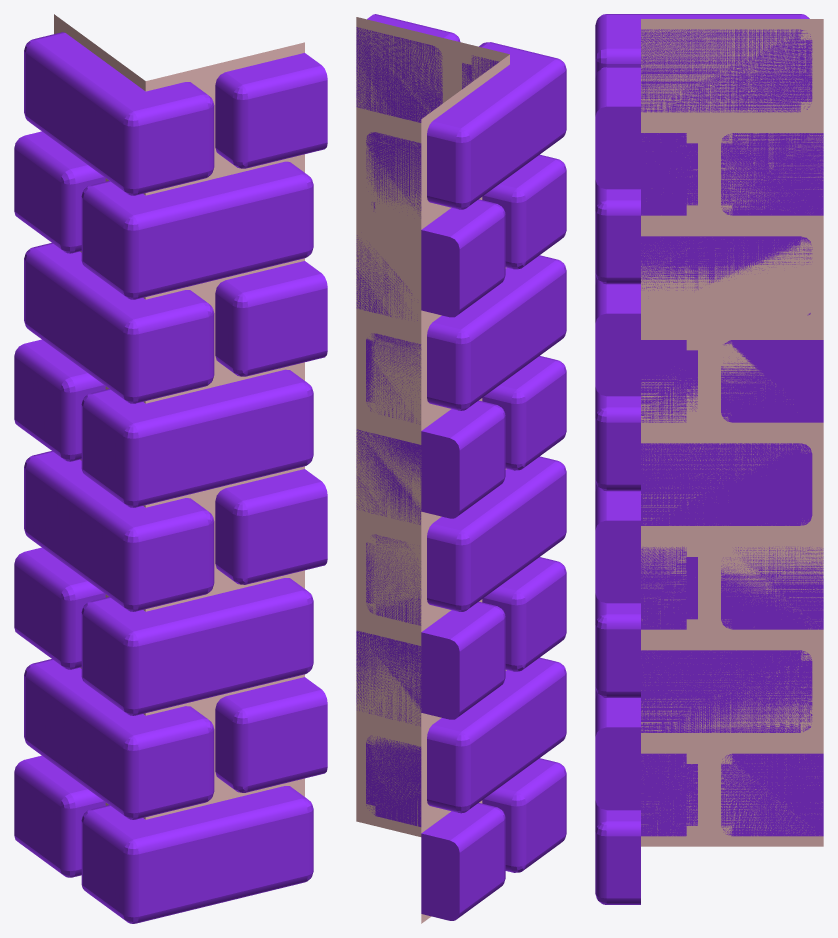
The model's file is convex_2_low.dae.
3 views of the same model, side by side, from view 1: azimuth 30°, elevation 25°; view 2: azimuth 150°, elevation 25°; view 3: azimuth 270°, elevation 25° (orthographic). The views are drawn at different scales.
Parts seen in each view (by area): view 1: corner_convex_2_1 (×8), brick_half_1 (×8), st5 (×12), st3 (×16), st4 (×8), st6 (×8), group_2 (×5), group_3 (×4), group_1; view 2: corner_convex_2_1 (×8), brick_half_1 (×8), group_2 (×8), group_3 (×4), st3 (×8), st5 (×4), st4 (×4), st6 (×4), st1 (×4), group_1; view 3: corner_convex_2_1 (×8), brick_half_1 (×8), group_2 (×4), group_3 (×4), group_1 (×4), st3 (×4), st1 (×5), st4 (×4).
Boxes of the visible parts, bbox=[...] form: corner_convex_2_1 (×8): bbox=[25, 33, 307, 916]; brick_half_1 (×8): bbox=[14, 53, 327, 870]; st5 (×12): bbox=[25, 40, 307, 923]; st3 (×16): bbox=[60, 98, 248, 917]; st4 (×8): bbox=[14, 65, 327, 805]; st6 (×8): bbox=[83, 94, 208, 852]; group_2 (×5): bbox=[54, 14, 304, 819]; group_3 (×4): bbox=[205, 42, 304, 792]; group_1: bbox=[145, 67, 205, 92]; corner_convex_2_1 (×8): bbox=[366, 43, 565, 865]; brick_half_1 (×8): bbox=[356, 14, 503, 920]; group_2 (×8): bbox=[356, 54, 509, 836]; group_3 (×4): bbox=[356, 17, 452, 736]; st3 (×8): bbox=[455, 141, 526, 866]; st5 (×4): bbox=[461, 59, 564, 743]; st4 (×4): bbox=[450, 204, 503, 852]; st6 (×4): bbox=[517, 160, 564, 803]; st1 (×4): bbox=[427, 121, 460, 745]; group_1: bbox=[452, 40, 509, 96]; corner_convex_2_1 (×8): bbox=[606, 15, 812, 898]; brick_half_1 (×8): bbox=[595, 68, 823, 836]; group_2 (×4): bbox=[641, 19, 823, 743]; group_3 (×4): bbox=[709, 122, 823, 846]; group_1 (×4): bbox=[641, 122, 709, 846]; st3 (×4): bbox=[595, 211, 606, 898]; st1 (×5): bbox=[606, 48, 640, 836]; st4 (×4): bbox=[595, 68, 606, 737].
Bounding box in the file's own units: 19.69 × 19.69 × 78.74.
